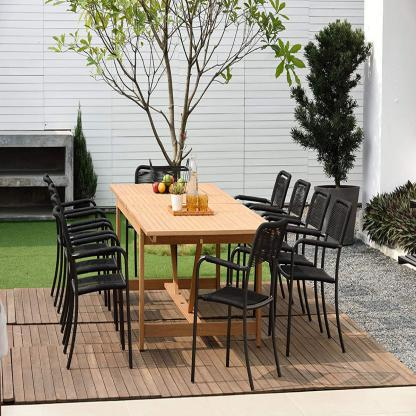table: (107, 178, 284, 352)
